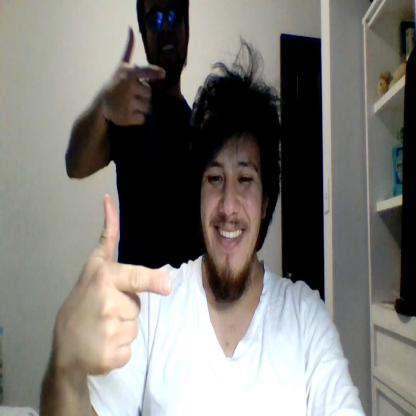G: (72, 192, 171, 374), (106, 25, 167, 124)
